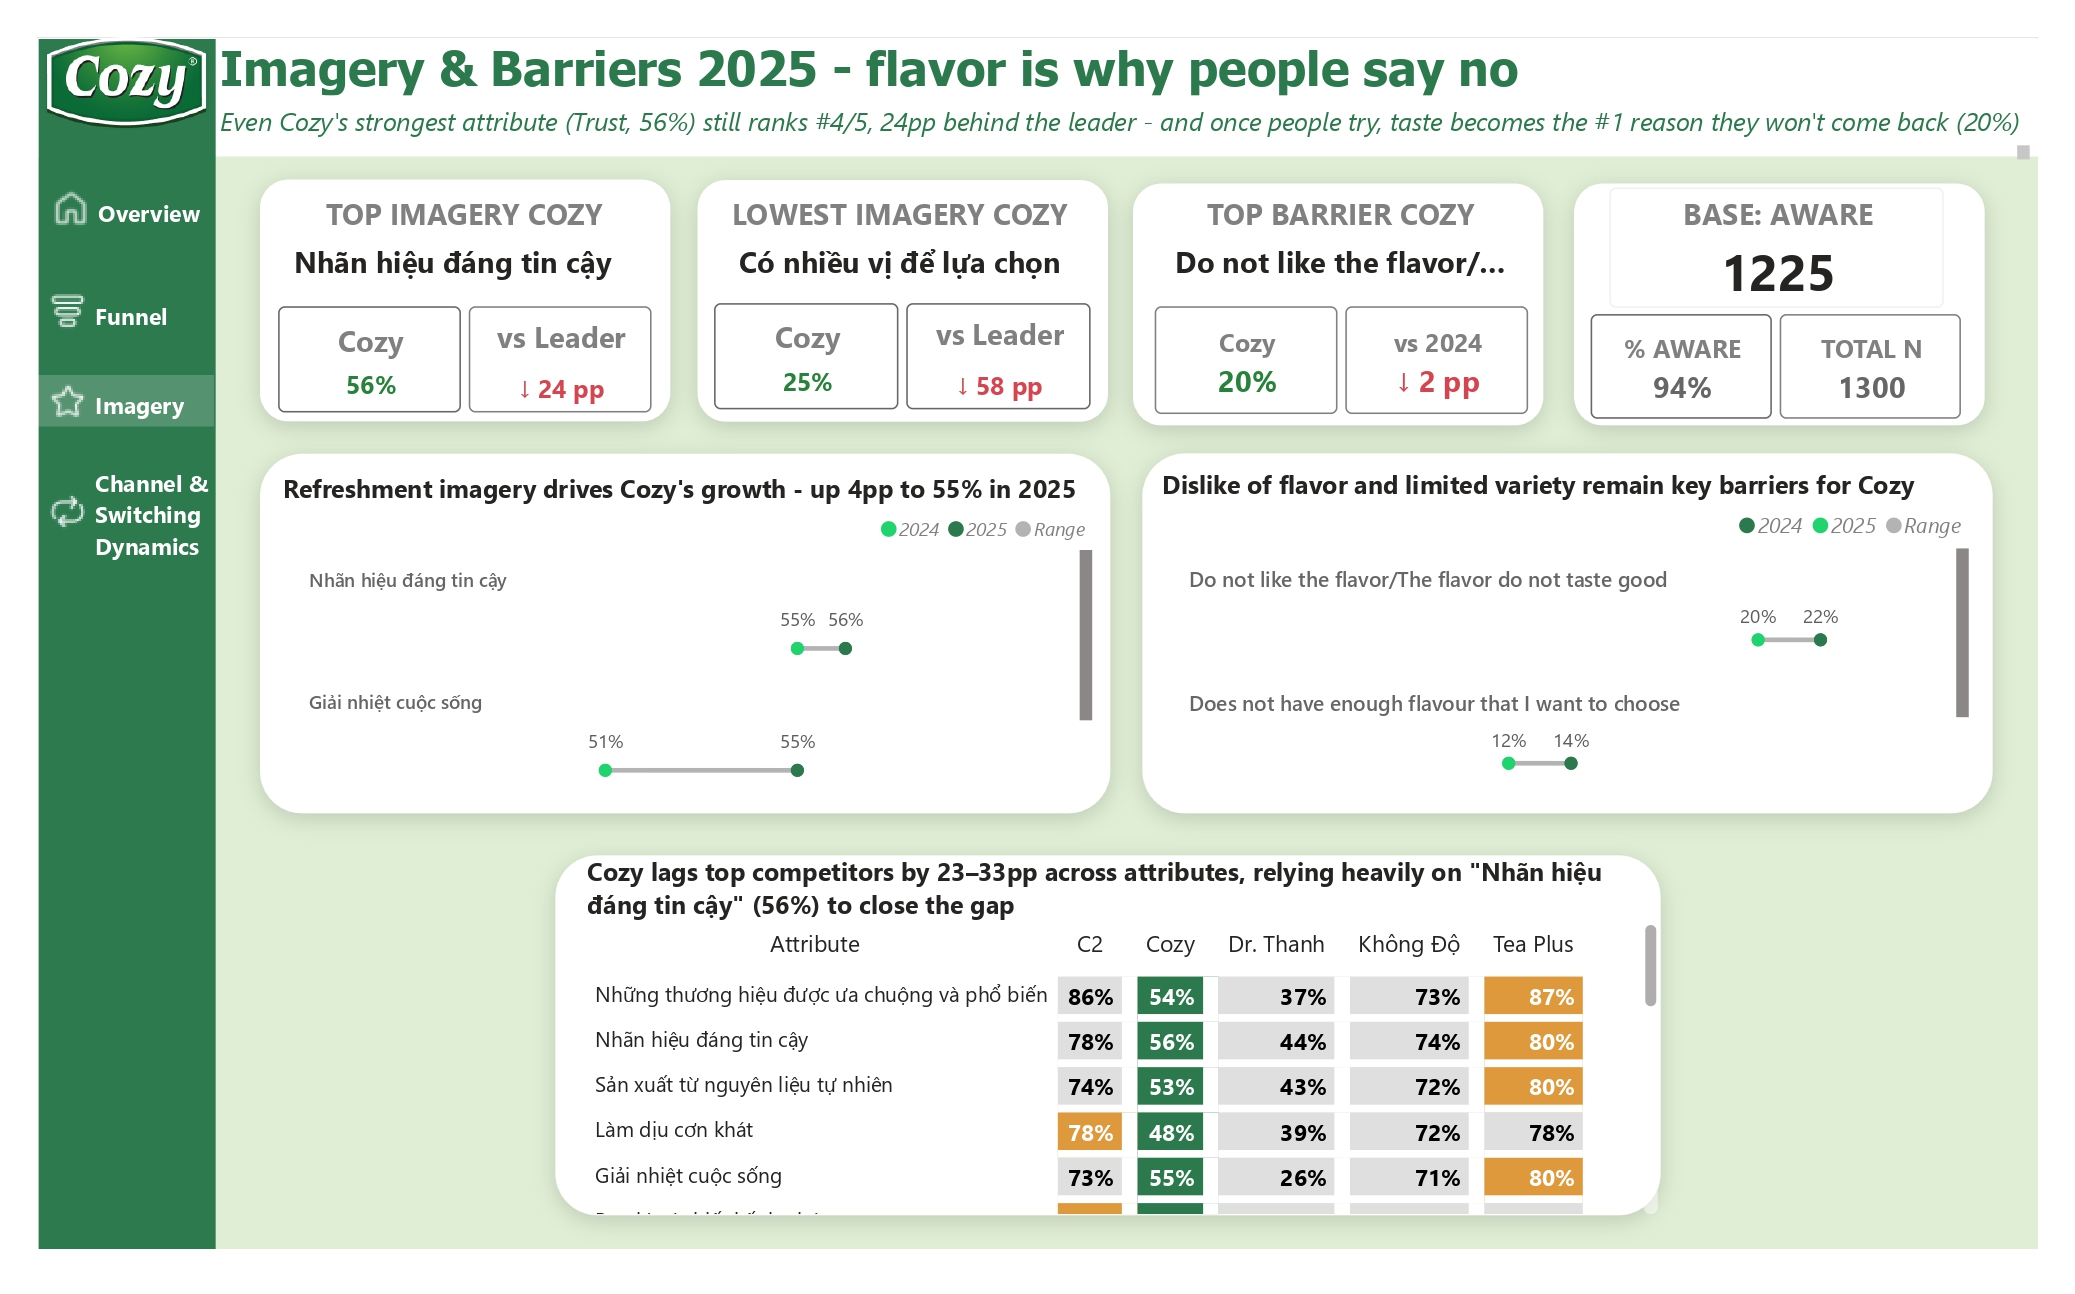

This screenshot's page, from the dashboard's own definition file:
{"tool":"powerbi","page":{"name":"Imagery","canvas":[1280,780],"ordinal":2},"visuals":[{"type":"image","box":[0,0,112.5,60.4],"z":0},{"type":"group","id":"g1","title":"Group 1","box":[151.9,100,242.3,140.4],"z":1000},{"type":"cardVisual","title":"TOP IMAGERY COZY","fields":{"Rows":["Fact Brand Image.Attribute"]},"box":[151.9,100,242.3,137.6],"z":2000,"group":"g1"},{"type":"cardVisual","title":"LOWEST IMAGERY COZY","fields":{"Rows":["Fact Brand Image.Attribute"]},"box":[424,100,256,134.7],"z":2000,"group":"g4"},{"type":"group","id":"g2","title":"Group 1","box":[713.5,100,242.3,140.4],"z":2000},{"type":"cardVisual","title":"TOP BARRIER COZY","fields":{"Rows":["Fact Barriers.Barrier"]},"box":[713.5,100,242.4,138.1],"z":2000,"group":"g2"},{"type":"cardVisual","fields":{"Data":["Fact Brand Image.%imagery25","Fact Brand Image.Diff Lowest Imagery Cozy vs Leader"]},"box":[432.9,169.9,242.1,68.1],"z":2005,"group":"g4"},{"type":"cardVisual","fields":{"Data":["Fact Brand Image.%imagery25","Fact Brand Image.Diff Top Imagery Cozy vs Leader"]},"box":[154.3,171.6,239.5,68.8],"z":2005,"group":"g1"},{"type":"cardVisual","fields":{"Data":["Fact Barriers.%barrier25","Fact Barriers.Top barrier vs 2024"]},"box":[715.9,171.8,239.6,69.1],"z":2005,"group":"g2"},{"type":"group","id":"g3","title":"Group 2","box":[994,84,238,160],"z":3000},{"type":"cardVisual","fields":{"Data":["Measure.Total Aware Cozy"]},"box":[994,84,238,101],"z":4000,"group":"g3"},{"type":"lineChart","title":"Dislike of flavor and limited variety remain key barriers for Cozy","fields":{"Category":["XAxis.XAxis"],"Rows":["Fact Barriers.Barrier"],"Y":["Fact Barriers.Dot - br24","Fact Barriers.Dot - br25","Fact Barriers.Range - Barriers"]},"box":[700,265.4,555.8,236.5],"z":4000},{"type":"lineChart","title":"Refreshment imagery drives Cozy''s growth - up 4pp to 55% in 2025","fields":{"Category":["XAxis.XAxis"],"Rows":["Fact Brand Image.Attribute"],"Y":["Fact Brand Image.Dot - im24","Fact Brand Image.Dot - im25","Fact Brand Image.Range - Imagery"]},"box":[151.9,277.8,527.8,224.1],"z":5000},{"type":"pivotTable","title":"Cozy lags top competitors by 23–33pp across attributes, relying heavily on \"Nhãn hiệu đáng tin cậy\" (56%) to close the gap","fields":{"Columns":["Dim Master Brand.Master_Brand"],"Rows":["Fact Brand Image.Attribute"],"Values":["Fact Brand Image.%imagery25"]},"box":[346.9,523.4,695.3,234.4],"z":6000},{"type":"group","id":"g4","title":"Group 1","box":[424,100,256,138],"z":7000},{"type":"textbox","title":"Imagery & Barriers 2025 - flavor is why people say no","box":[112.1,0,1168.2,83.3],"z":8000},{"type":"actionButton","title":"Button Home","box":[1.6,84.1,112.7,50.8],"z":9000},{"type":"actionButton","title":"Button Home","box":[0,151.6,112.7,47.6],"z":10000},{"type":"cardVisual","fields":{"Data":["Measure.% AWARE 2025","Measure.N RESPONDENT25"]},"box":[994,177,238,67],"z":10000,"group":"g5"},{"type":"actionButton","title":"Button Home","box":[0,216,112.7,33.3],"z":11000},{"type":"actionButton","title":"Button Home","box":[0,266,116,74],"z":12000},{"type":"group","id":"g5","title":"Group 4","box":[994,177,238,67],"z":16000,"group":"g3"}]}

Visuals, with their boxes on the page's 1280x780 design canvas (x1, y1, x2, y2). These are canvas units, not pixel positions in the 2075x1294 screenshot, which may show the page scaled, cropped or inside an application window:
image: (0,0,112,60)
"Group 1" group: (152,100,394,240)
"TOP IMAGERY COZY" cardVisual: (152,100,394,238)
"LOWEST IMAGERY COZY" cardVisual: (424,100,680,235)
"Group 1" group: (714,100,956,240)
"TOP BARRIER COZY" cardVisual: (714,100,956,238)
cardVisual - Fact Brand Image.%imagery25 x Fact Brand Image.Diff Lowest Imagery Cozy vs Leader: (433,170,675,238)
cardVisual - Fact Brand Image.%imagery25 x Fact Brand Image.Diff Top Imagery Cozy vs Leader: (154,172,394,240)
cardVisual - Fact Barriers.%barrier25 x Fact Barriers.Top barrier vs 2024: (716,172,956,241)
"Group 2" group: (994,84,1232,244)
cardVisual - Measure.Total Aware Cozy: (994,84,1232,185)
"Dislike of flavor and limited variety remain key barriers for Cozy" lineChart: (700,265,1256,502)
"Refreshment imagery drives Cozy''s growth - up 4pp to 55% in 2025" lineChart: (152,278,680,502)
"Cozy lags top competitors by 23–33pp across attributes, relying heavily on "Nhãn hiệu đáng tin cậy" (56%) to close the gap" pivotTable: (347,523,1042,758)
"Group 1" group: (424,100,680,238)
"Imagery & Barriers 2025 - flavor is why people say no" textbox: (112,0,1280,83)
"Button Home" actionButton: (2,84,114,135)
"Button Home" actionButton: (0,152,113,199)
cardVisual - Measure.% AWARE 2025 x Measure.N RESPONDENT25: (994,177,1232,244)
"Button Home" actionButton: (0,216,113,249)
"Button Home" actionButton: (0,266,116,340)
"Group 4" group: (994,177,1232,244)
